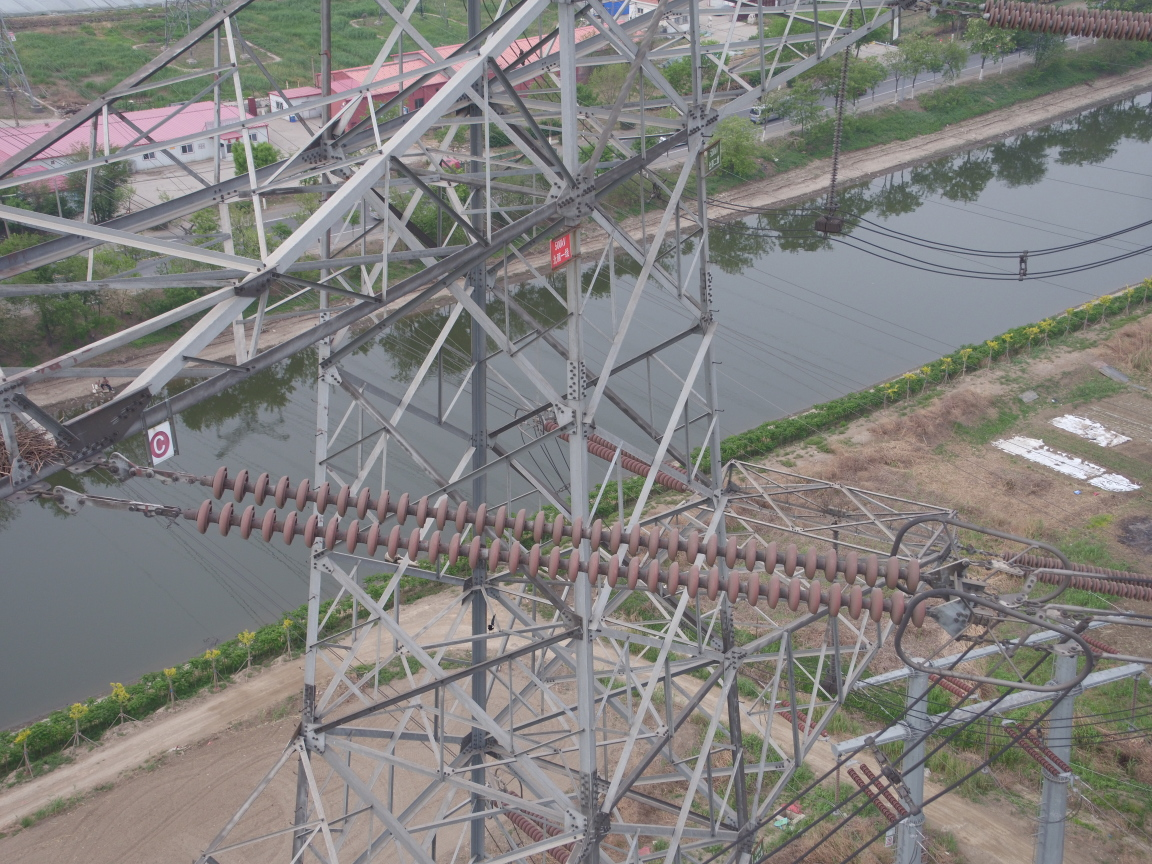insulator: (150, 465, 944, 629)
